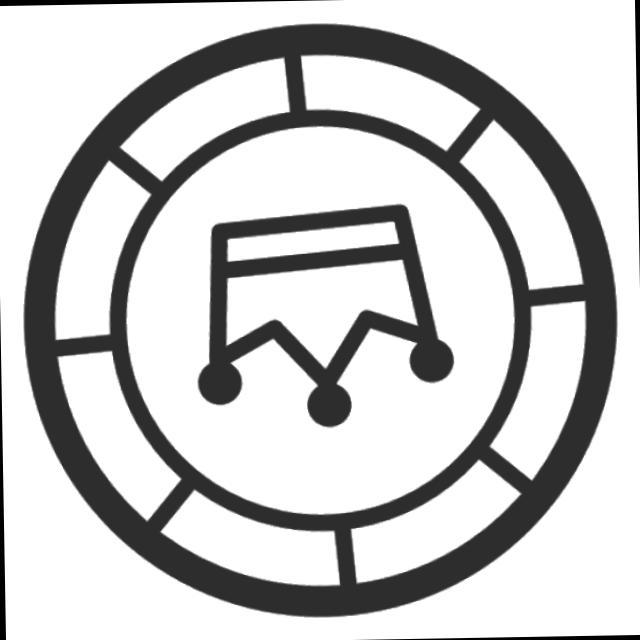coin: (10, 6, 630, 637)
